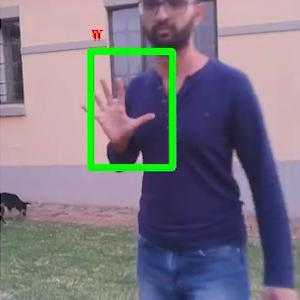follow_hand: (79, 71, 157, 149)
